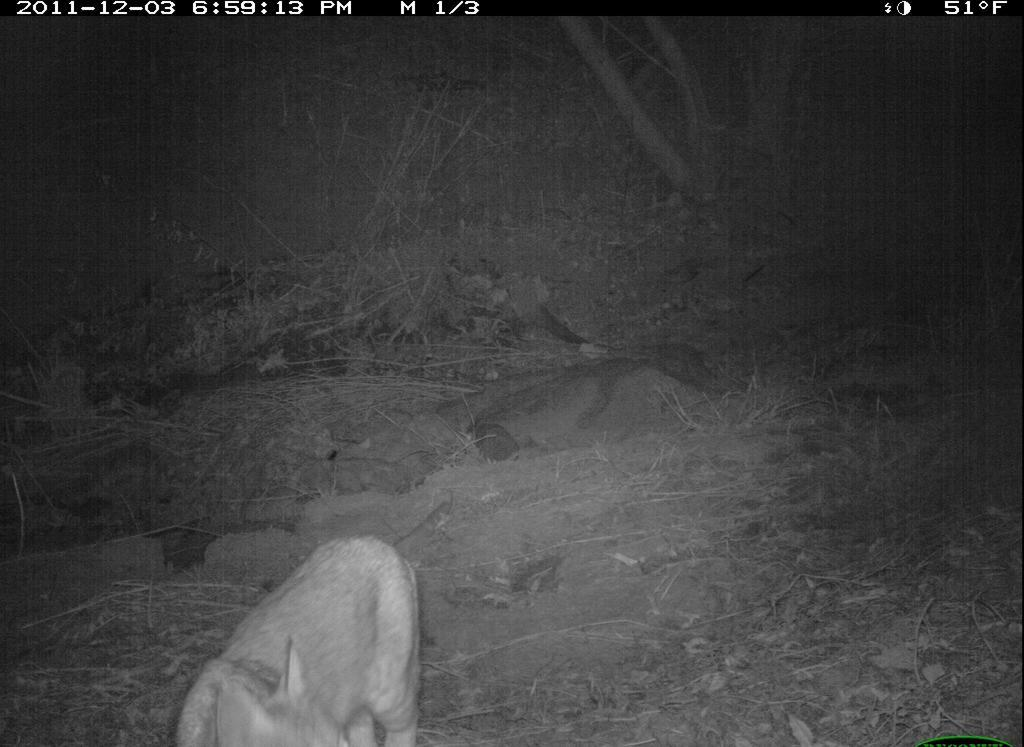bobcat: (171, 507, 455, 747)
